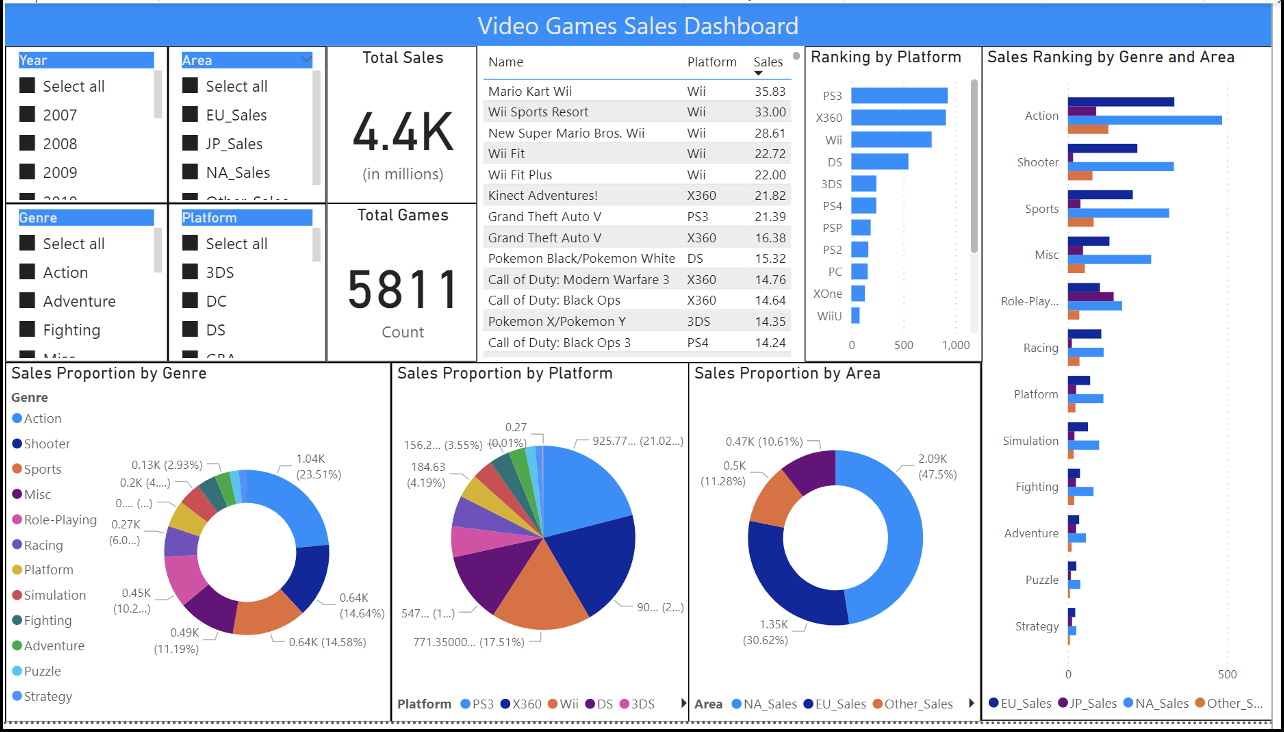

The page's visual inventory and layout, read from the dashboard file:
{"tool":"powerbi","page":{"name":"Base","canvas":[1280,720],"ordinal":0},"visuals":[{"type":"textbox","box":[9.6,0,1270.4,42.5],"z":0},{"type":"slicer","fields":{"Values":["year_reference.year_txt"]},"box":[9.2,42.5,163.3,157.8],"z":1000},{"type":"slicer","fields":{"Values":["vgsales.Area"]},"box":[172.9,42.5,159.1,157.8],"z":2000},{"type":"slicer","fields":{"Values":["vgsales.Genre"]},"box":[9.2,200.3,163.3,159.1],"z":3000},{"type":"card","title":"Total Sales","fields":{"Values":["Sum(vgsales.Sales)"]},"box":[332,42.5,150.9,157.8],"z":4000},{"type":"slicer","fields":{"Values":["vgsales.Platform"]},"box":[172.9,200.3,159.1,159.1],"z":5000},{"type":"card","title":"Total Games","fields":{"Values":["Count(vgsales.Name)"]},"box":[332,200.3,150.9,159.1],"z":6000},{"type":"tableEx","fields":{"Values":["vgsales.Name","vgsales.Platform","Sum(vgsales.Sales)"]},"box":[482.9,42.5,329.3,316.9],"z":7000},{"type":"clusteredBarChart","title":"Sales Ranking by Genre and Area","fields":{"Category":["vgsales.Genre"],"Y":["Sum(vgsales.Sales)"],"Series":["vgsales.Area"]},"box":[988.8,42.6,292.5,677.1],"z":8000},{"type":"clusteredBarChart","title":"Ranking by Platform","fields":{"Y":["Sum(vgsales.Sales)"],"Category":["vgsales.Platform"]},"box":[812.2,42.5,178.3,316.9],"z":9000},{"type":"donutChart","title":"Sales Proportion by Genre","fields":{"Category":["vgsales.Genre"],"Y":["Sum(vgsales.Sales)"]},"box":[9.6,359.4,386.9,360.8],"z":10000},{"type":"pieChart","title":"Sales Proportion by Platform","fields":{"Category":["vgsales.Platform"],"Y":["Sum(vgsales.Sales)"]},"box":[396.5,359.4,303.2,360.8],"z":11000},{"type":"donutChart","title":"Sales Proportion by Area","fields":{"Category":["vgsales.Area"],"Y":["Sum(vgsales.Sales)"]},"box":[695.6,359.4,293.6,360.8],"z":12000}]}

Visuals, with their boxes in screenshot pixels (x1, y1, x2, y2), scaled from the page's 1280x720 canvas onto the 1284x732 screenshot:
textbox: (left=10, top=0, right=1283, bottom=43)
slicer - year_reference.year_txt: (left=9, top=43, right=173, bottom=204)
slicer - vgsales.Area: (left=173, top=43, right=333, bottom=204)
slicer - vgsales.Genre: (left=9, top=204, right=173, bottom=365)
"Total Sales" card: (left=333, top=43, right=484, bottom=204)
slicer - vgsales.Platform: (left=173, top=204, right=333, bottom=365)
"Total Games" card: (left=333, top=204, right=484, bottom=365)
tableEx - vgsales.Name x vgsales.Platform: (left=484, top=43, right=815, bottom=365)
"Sales Ranking by Genre and Area" clusteredBarChart: (left=992, top=43, right=1283, bottom=731)
"Ranking by Platform" clusteredBarChart: (left=815, top=43, right=994, bottom=365)
"Sales Proportion by Genre" donutChart: (left=10, top=365, right=398, bottom=731)
"Sales Proportion by Platform" pieChart: (left=398, top=365, right=702, bottom=731)
"Sales Proportion by Area" donutChart: (left=698, top=365, right=992, bottom=731)
